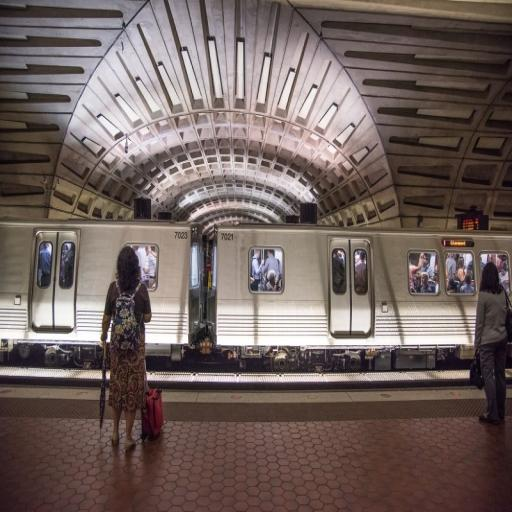platform_edge: (168, 366, 470, 418), (2, 363, 99, 415)
